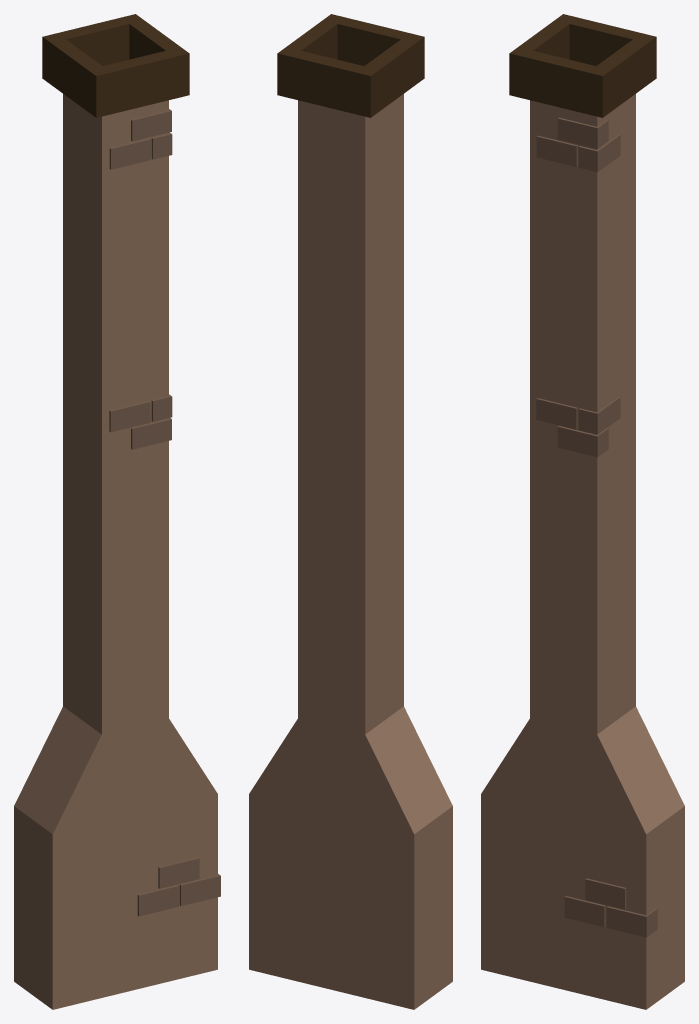
The model's file is Chimney3_C5.fbx.
The picture shows the model from 3 angles, left to right: view 1: azimuth 30°, elevation 25°; view 2: azimuth 150°, elevation 25°; view 3: azimuth 330°, elevation 25°; orthographic projection.
Parts seen in each view (by area): view 1: Chimney3_C5; view 2: Chimney3_C5; view 3: Chimney3_C5.
Part boxes in pixels (x1,y1,x2,y2): Chimney3_C5: (14,14,220,1009); Chimney3_C5: (249,14,452,1009); Chimney3_C5: (481,14,684,1009).
Bounding box in the file's own units: 0.9944 × 5.3 × 0.5559.
